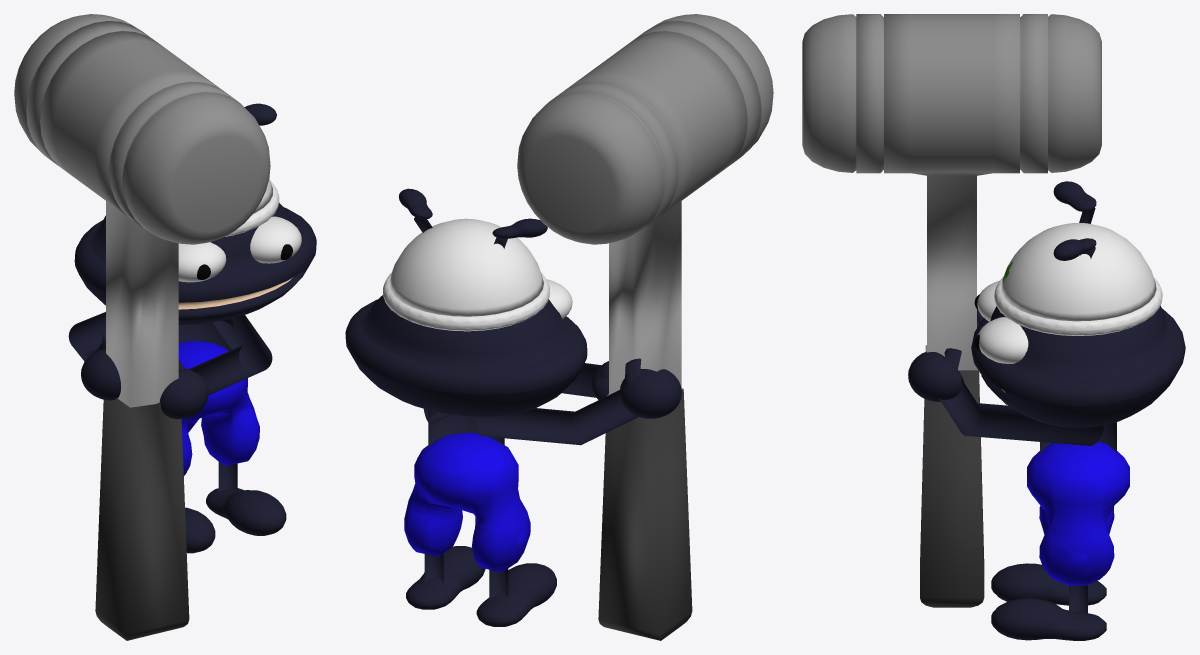
Rendered from hanma-oisyasan.fbx.
3 views of the same model, side by side, from view 1: azimuth 30°, elevation 25°; view 2: azimuth 150°, elevation 25°; view 3: azimuth 270°, elevation 25° (orthographic).
Visible parts, largest first — view 1: Cylinder, Sphere.004; view 2: Cylinder, Sphere.004; view 3: Cylinder, Sphere.004.
Boxes of the visible parts, box(x1,y1,x2,y2) form: Cylinder: box(14, 14, 270, 640); Sphere.004: box(68, 103, 316, 553); Cylinder: box(517, 14, 773, 640); Sphere.004: box(345, 188, 681, 626); Cylinder: box(802, 14, 1101, 607); Sphere.004: box(908, 181, 1185, 640).
Size of the model in its own units: 4.29 by 7.99 by 4.81.
